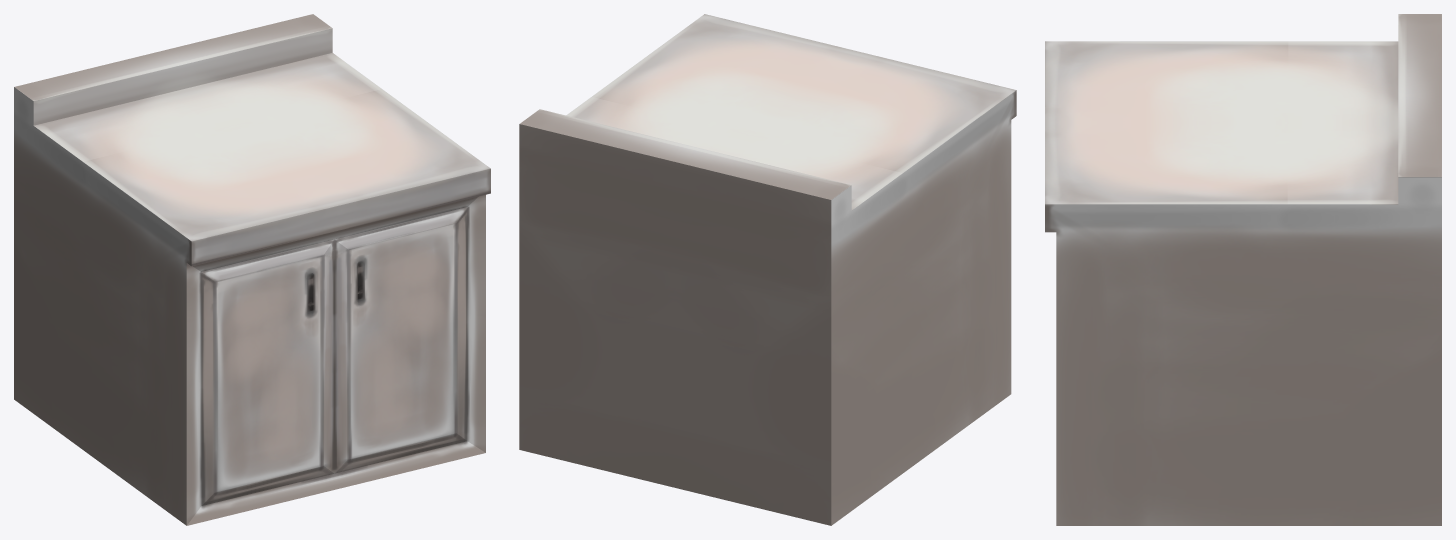
The model's file is KitchenCounter.fbx.
3 renders of one model, left to right at view 1: azimuth 30°, elevation 25°; view 2: azimuth 150°, elevation 25°; view 3: azimuth 270°, elevation 25°, orthographic. The views are drawn at different scales.
Parts seen in each view (by area): view 1: KitchenCounter; view 2: KitchenCounter; view 3: KitchenCounter.
Part boxes in pixels (left/top/right/bottom): KitchenCounter: left=14, top=14, right=490, bottom=525; KitchenCounter: left=519, top=14, right=1016, bottom=525; KitchenCounter: left=1045, top=14, right=1441, bottom=525.
Bounding box in the file's own units: 72.94 × 72.84 × 75.03.
Materials: 1 (1 with a texture image).
